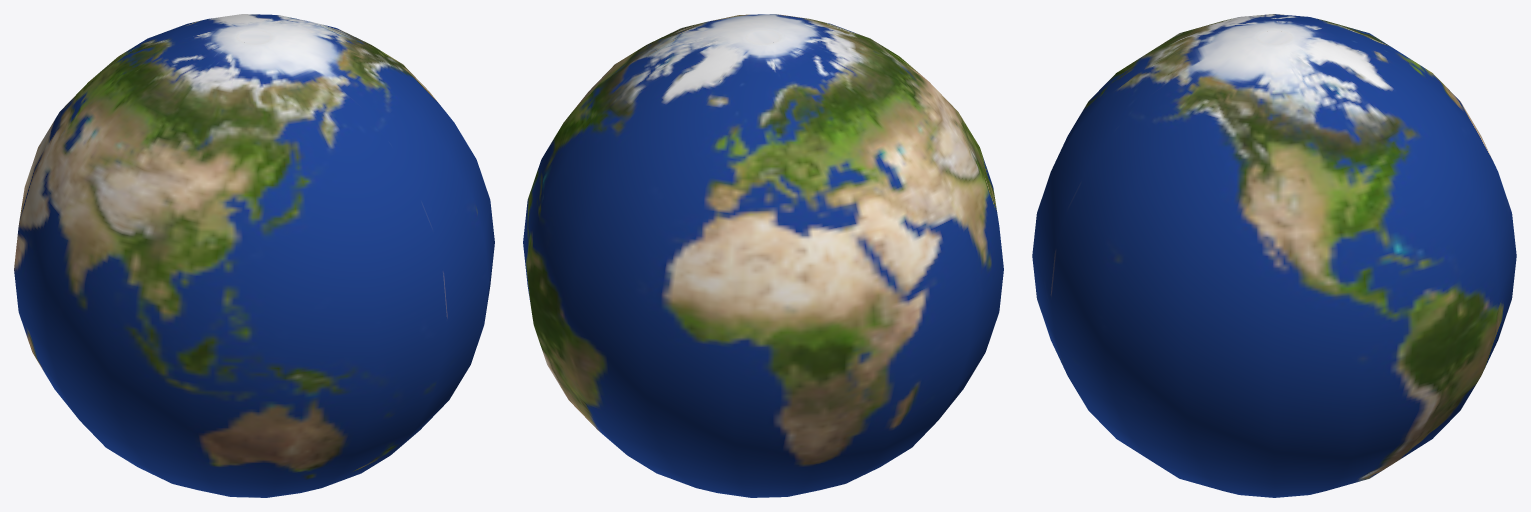
Rendered from Earth.fbx.
The picture shows the model from 3 angles, left to right: view 1: azimuth 30°, elevation 25°; view 2: azimuth 150°, elevation 25°; view 3: azimuth 270°, elevation 25°; orthographic projection.
Visible parts, largest first — view 1: Earth; view 2: Earth; view 3: Earth.
Part boxes in pixels (x1,y1,x2,y2): Earth: [14, 14, 494, 497]; Earth: [523, 14, 1003, 497]; Earth: [1032, 14, 1516, 497].
Size of the model in its own units: 8.67 by 8.62 by 8.67.
